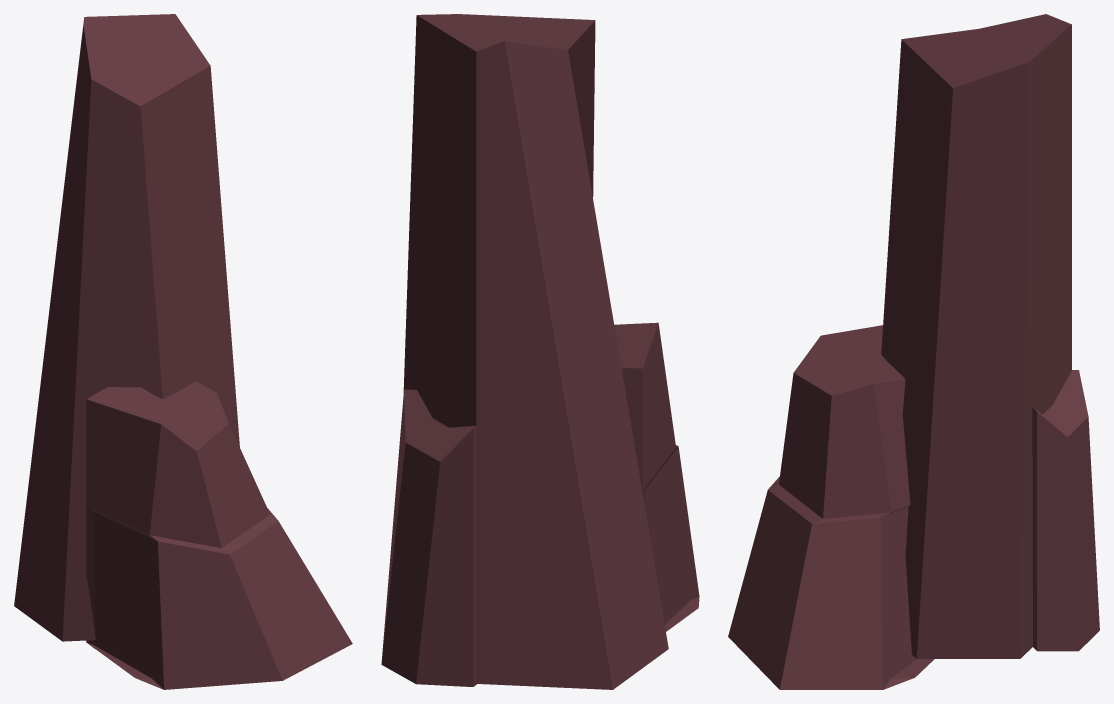
Rendered from rocha - versão 3.fbx.
3 views of the same model, side by side, from view 1: azimuth 30°, elevation 25°; view 2: azimuth 150°, elevation 25°; view 3: azimuth 270°, elevation 25° (orthographic). The views are drawn at different scales.
Visible parts, largest first — view 1: rocha - versão 3; view 2: rocha - versão 3; view 3: rocha - versão 3.
Boxes of the visible parts, x1,y1,x2,y2 form: rocha - versão 3: [14, 14, 352, 689]; rocha - versão 3: [381, 14, 699, 689]; rocha - versão 3: [728, 14, 1099, 689].
Bounding box in the file's own units: 140 × 333 × 187.
